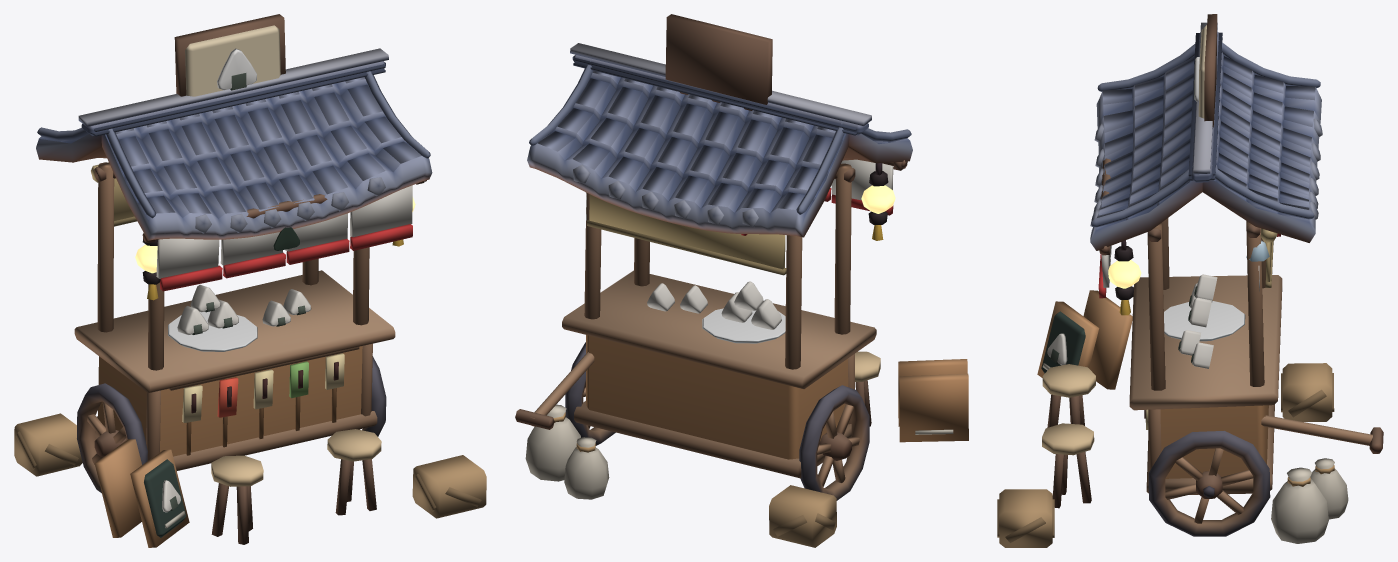
Rendered from shop-1-v7.glb.
3 renders of one model, left to right at view 1: azimuth 30°, elevation 25°; view 2: azimuth 150°, elevation 25°; view 3: azimuth 270°, elevation 25°, orthographic.
Parts seen in each view (by area): view 1: shop-1-v7; view 2: shop-1-v7, window_glow; view 3: shop-1-v7, window_glow.
Boxes of the visible parts, x1,y1,x2,y2 form: shop-1-v7: (14,14,486,547); shop-1-v7: (515,14,968,547); window_glow: (861,185,895,213); shop-1-v7: (997,14,1383,547); window_glow: (1108,260,1141,288).
Bounding box in the file's own units: 2.07 × 2.55 × 2.03.
